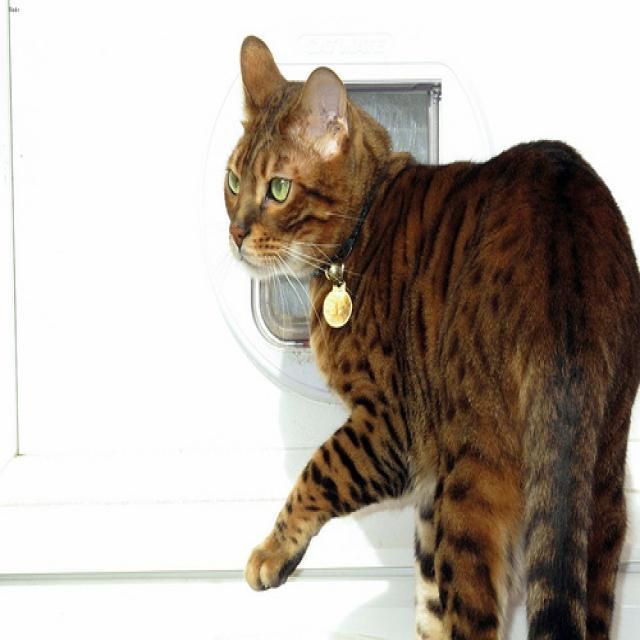Bengal: (213, 31, 372, 294)
